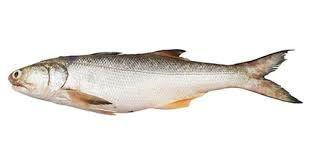Fourfinger Threadfish: (12, 47, 302, 113)
